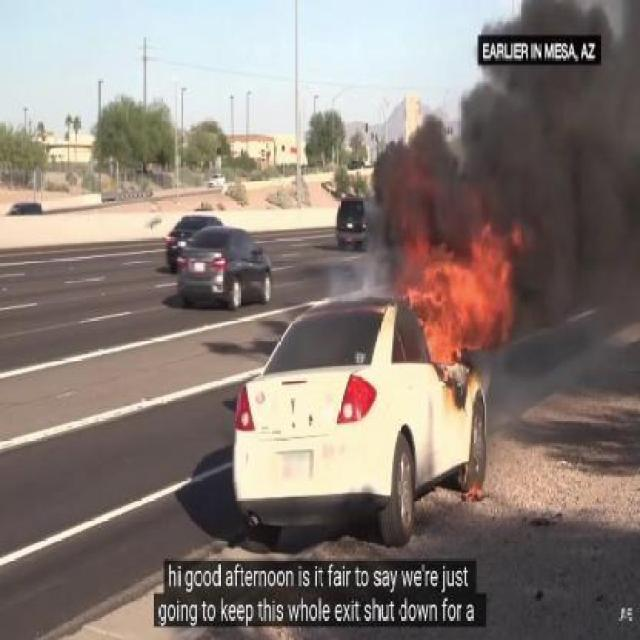Fire: (381, 216, 527, 392)
Smoke: (350, 30, 630, 208)
